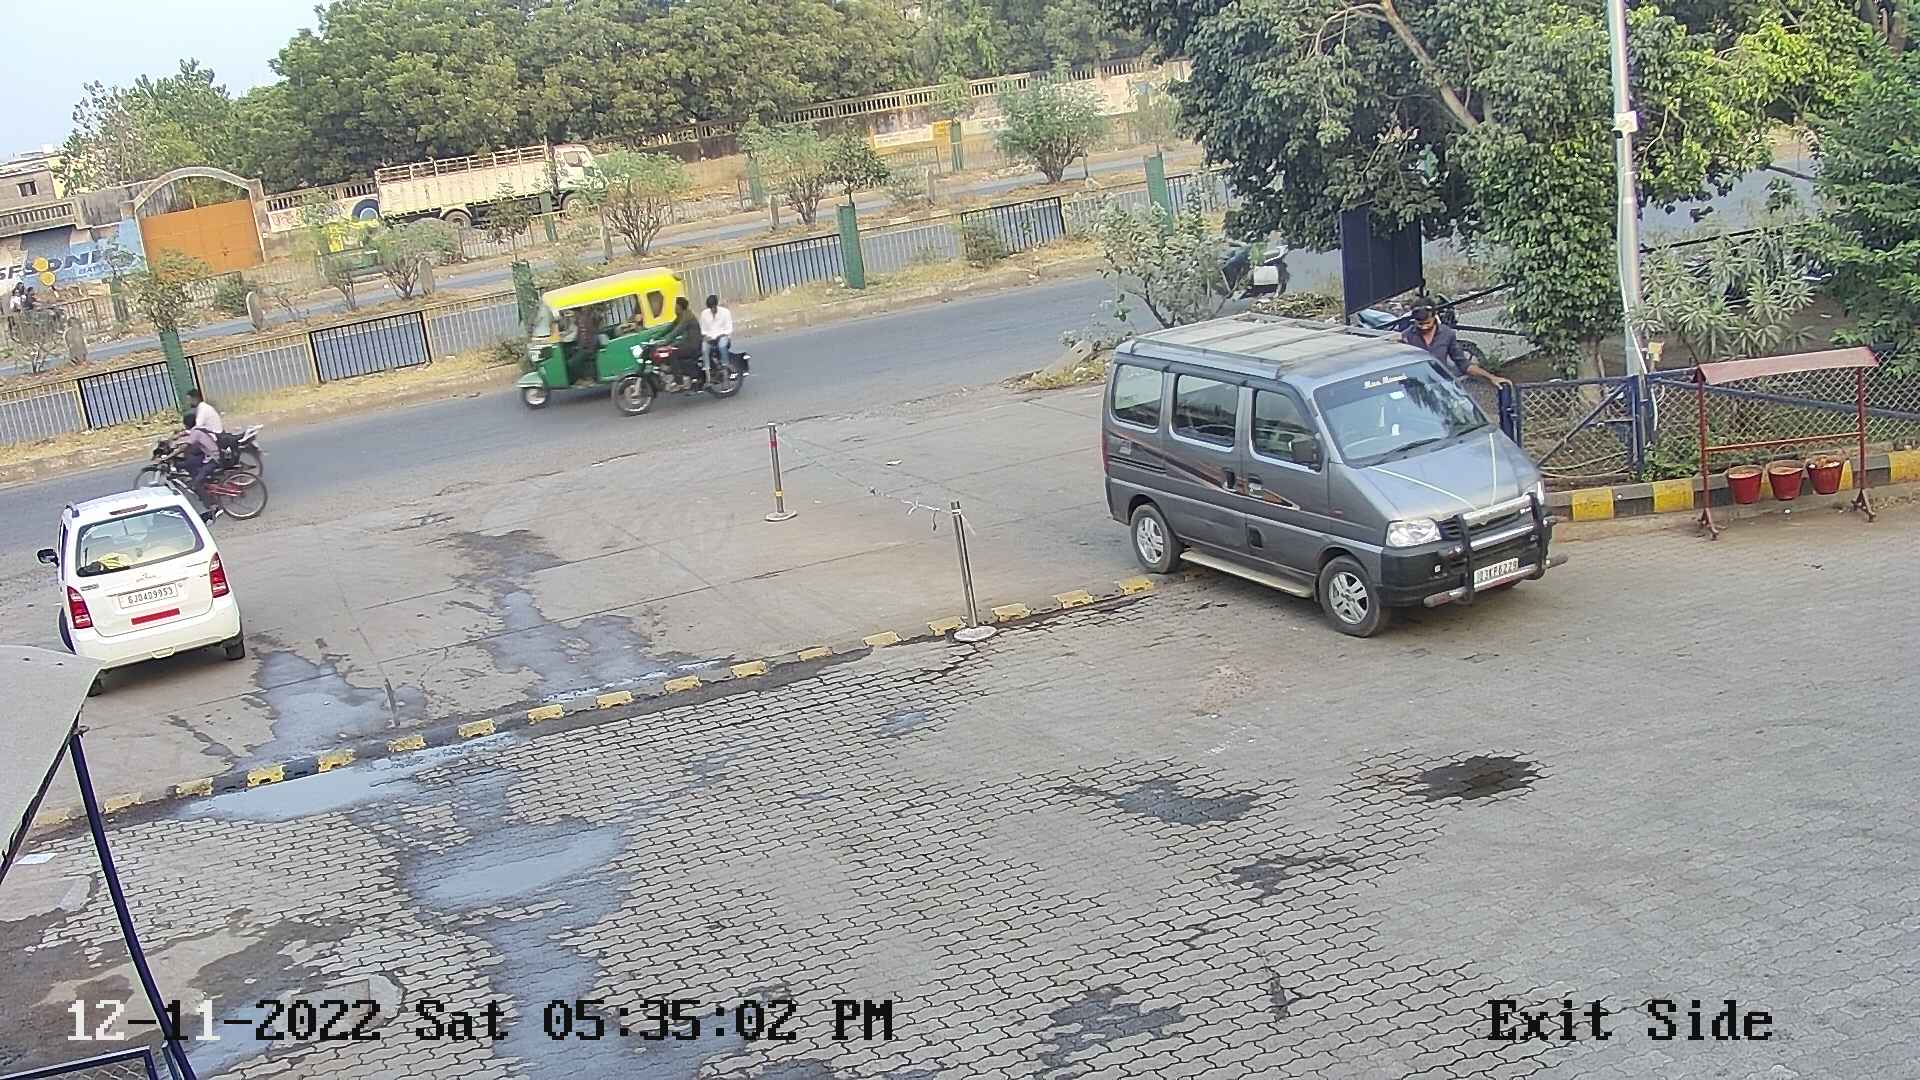Auto: (508, 257, 696, 419)
Bike: (129, 386, 270, 530), (612, 287, 754, 419)
Car: (1097, 302, 1580, 632), (38, 447, 269, 691)
HMV: (365, 128, 613, 233)
